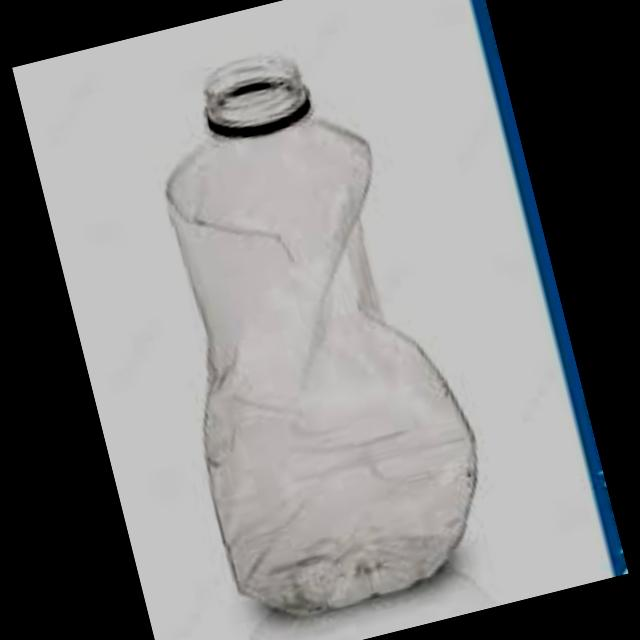trash: (79, 4, 535, 640)
